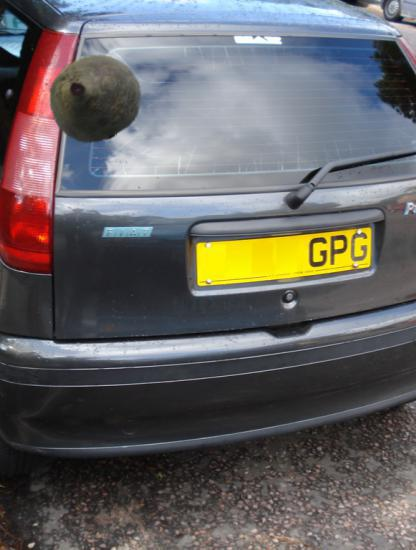Beetroot: (47, 49, 143, 145)
